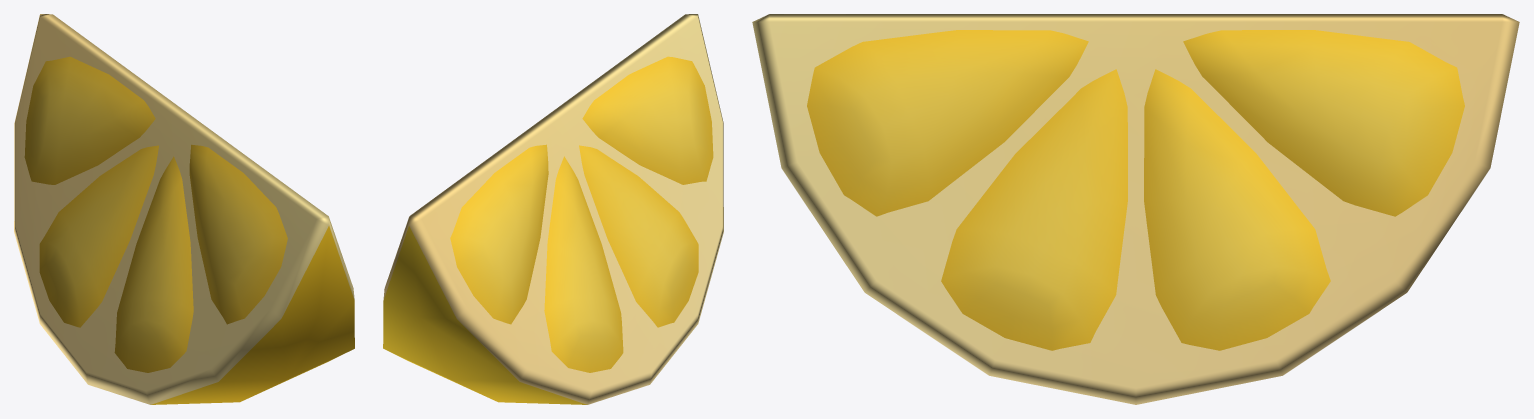
Rendered from lemon_003.fbx.
The picture shows the model from 3 angles, left to right: view 1: azimuth 30°, elevation 25°; view 2: azimuth 150°, elevation 25°; view 3: azimuth 270°, elevation 25°; orthographic projection. The views are drawn at different scales.
Parts seen in each view (by area): view 1: lemon_003; view 2: lemon_003; view 3: lemon_003.
Part boxes in pixels (x1,y1,x2,y2): lemon_003: [14, 14, 354, 404]; lemon_003: [383, 14, 723, 404]; lemon_003: [752, 14, 1519, 404].
Bounding box in the file's own units: 4.24 × 10.78 × 5.45.
